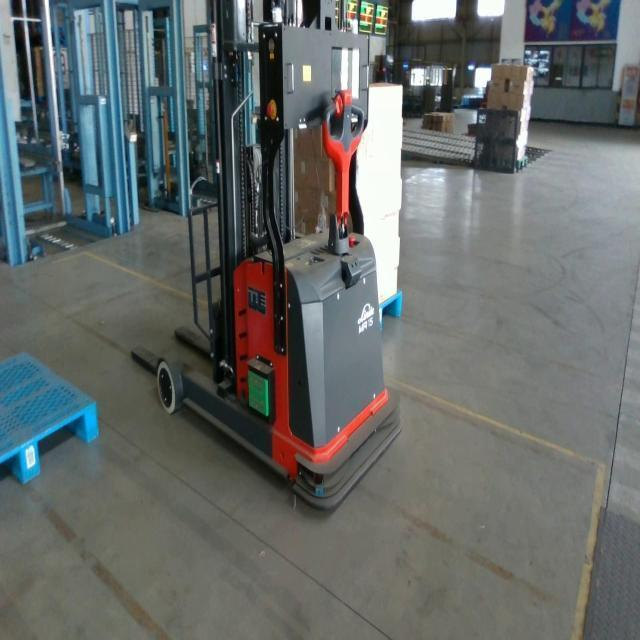forklift: (129, 0, 405, 519)
